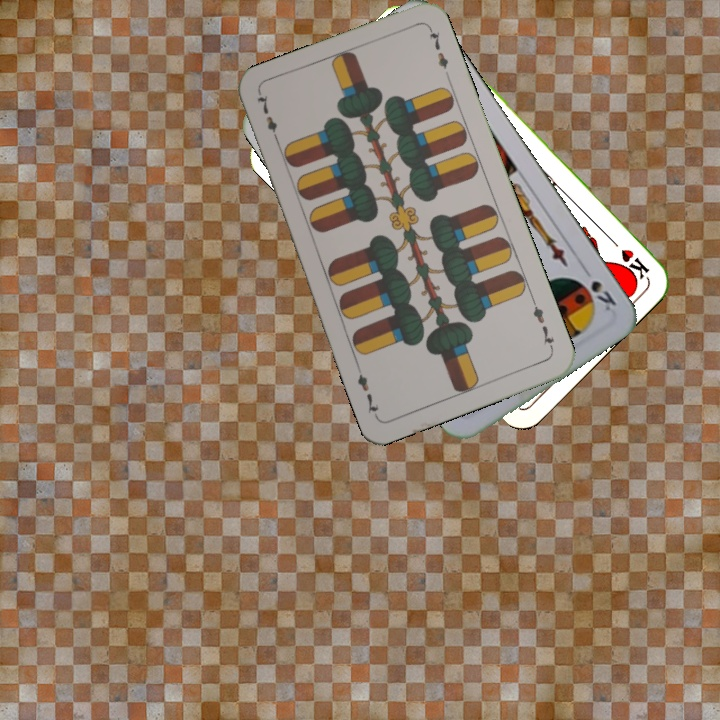E7: (253, 90, 283, 147), (528, 296, 557, 353)
HK: (604, 232, 653, 282)
SK: (578, 262, 619, 314)
